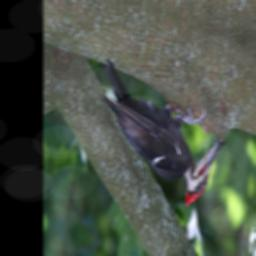Woodpecker: (88, 56, 228, 218)
